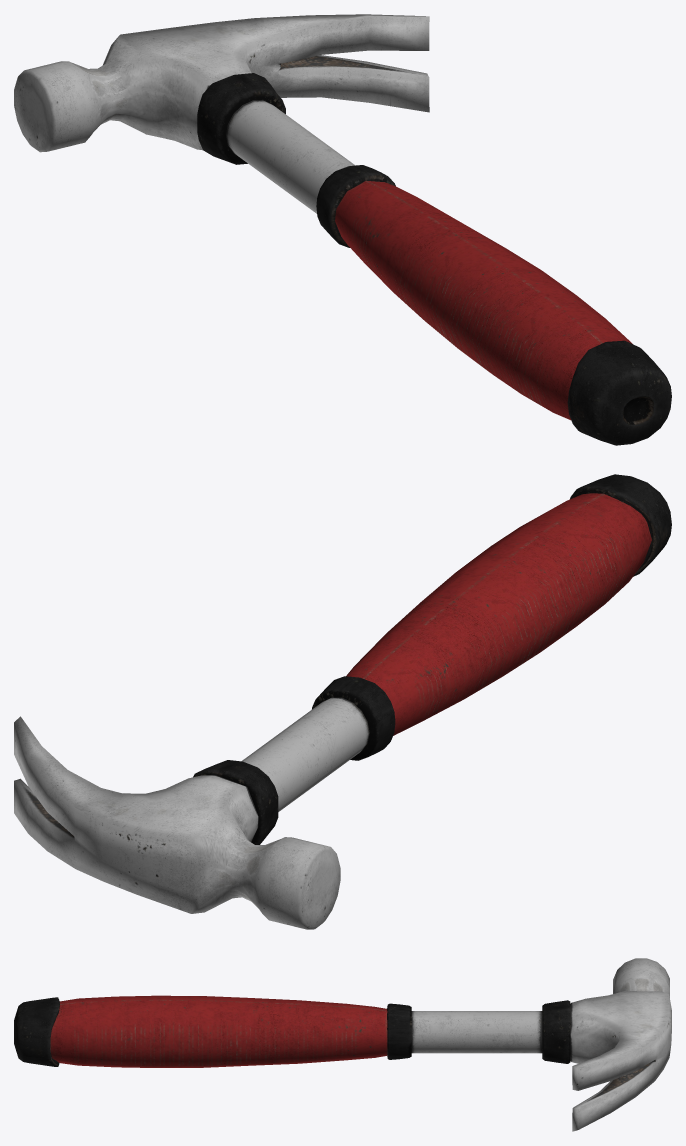
The model's file is hammer.glb.
The picture shows the model from 3 angles, top to bottom: view 1: azimuth 30°, elevation 25°; view 2: azimuth 150°, elevation 25°; view 3: azimuth 270°, elevation 25°; orthographic projection. The views are drawn at different scales.
Parts seen in each view (by area): view 1: Cabeza_low, Mango_low, 3_low, Cuello_low, 1_low, 2_low; view 2: Cabeza_low, Mango_low, Cuello_low, 3_low, 2_low, 1_low; view 3: Mango_low, Cabeza_low, Cuello_low, 3_low, 1_low, 2_low.
Boxes of the visible parts, x1,y1,x2,y2 form: Cabeza_low: (14, 14, 429, 152); Mango_low: (335, 180, 632, 420); 3_low: (567, 340, 671, 445); Cuello_low: (226, 100, 355, 213); 1_low: (197, 73, 285, 164); 2_low: (316, 165, 395, 247); Cabeza_low: (14, 716, 340, 929); Mango_low: (346, 493, 651, 735); Cuello_low: (242, 697, 369, 811); 3_low: (570, 474, 671, 576); 2_low: (312, 676, 395, 760); 1_low: (193, 760, 278, 844); Mango_low: (50, 995, 387, 1067); Cabeza_low: (570, 958, 671, 1131); Cuello_low: (411, 1011, 542, 1053); 3_low: (14, 997, 59, 1066); 1_low: (542, 1000, 570, 1063); 2_low: (387, 1003, 411, 1059).
Size of the model in its own units: 0.8351 by 0.2204 by 2.
Materials: 1 (1 with a texture image).
